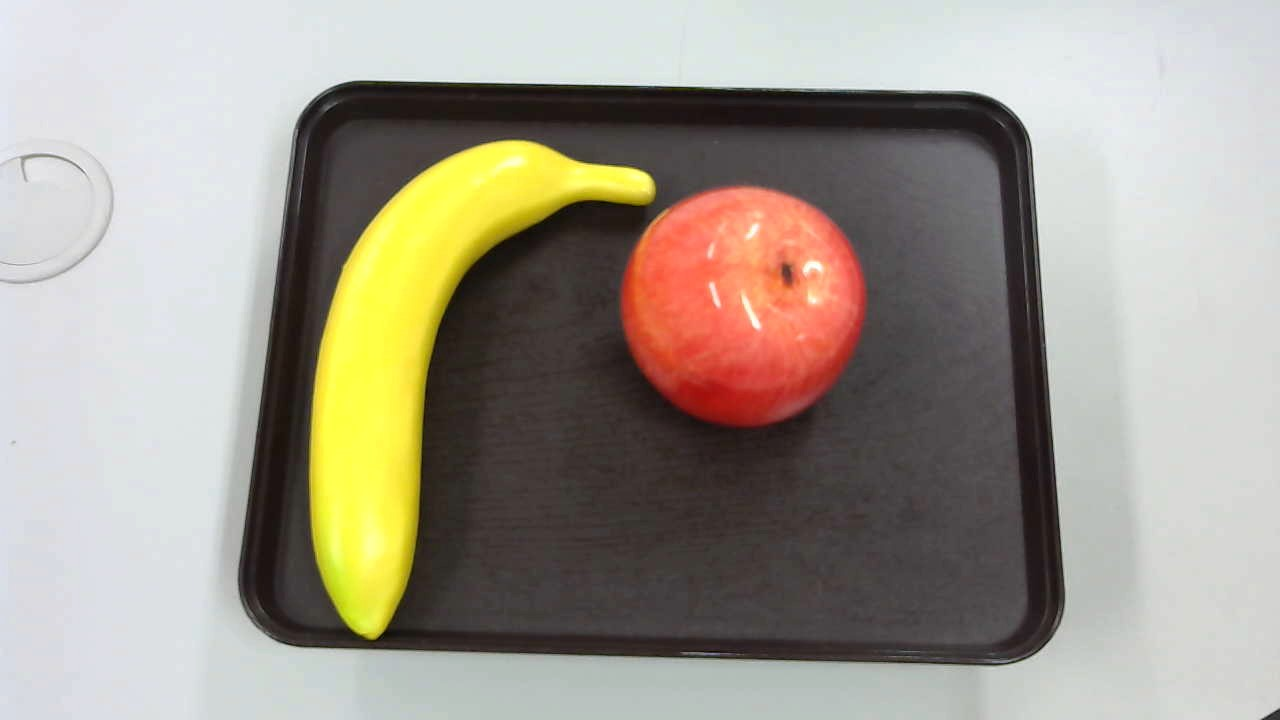banana: (305, 135, 654, 639)
red apple: (608, 181, 881, 430)
